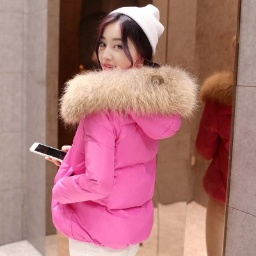face: (90, 11, 161, 71)
